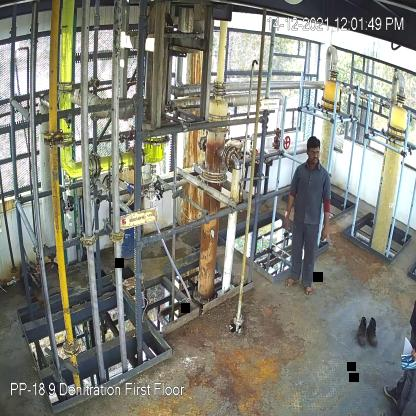no_shoes: (302, 284, 313, 298), (283, 277, 300, 286)
shoes: (356, 316, 370, 348), (368, 318, 379, 346)
